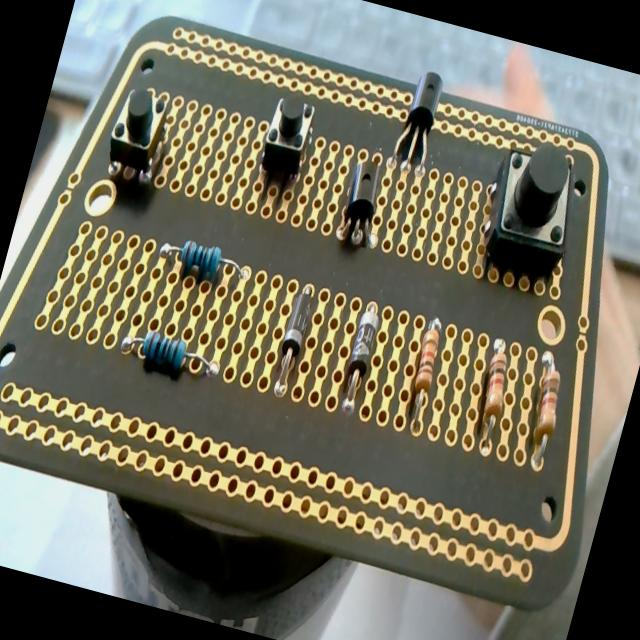diode: (267, 281, 319, 402), (334, 298, 385, 414)
resistor: (510, 346, 574, 472), (466, 336, 520, 456), (397, 314, 450, 436), (118, 324, 220, 386), (154, 233, 250, 295)
switch: (468, 132, 590, 292), (100, 78, 174, 184), (256, 90, 318, 178)
transistor: (388, 68, 448, 181), (333, 154, 396, 252)
